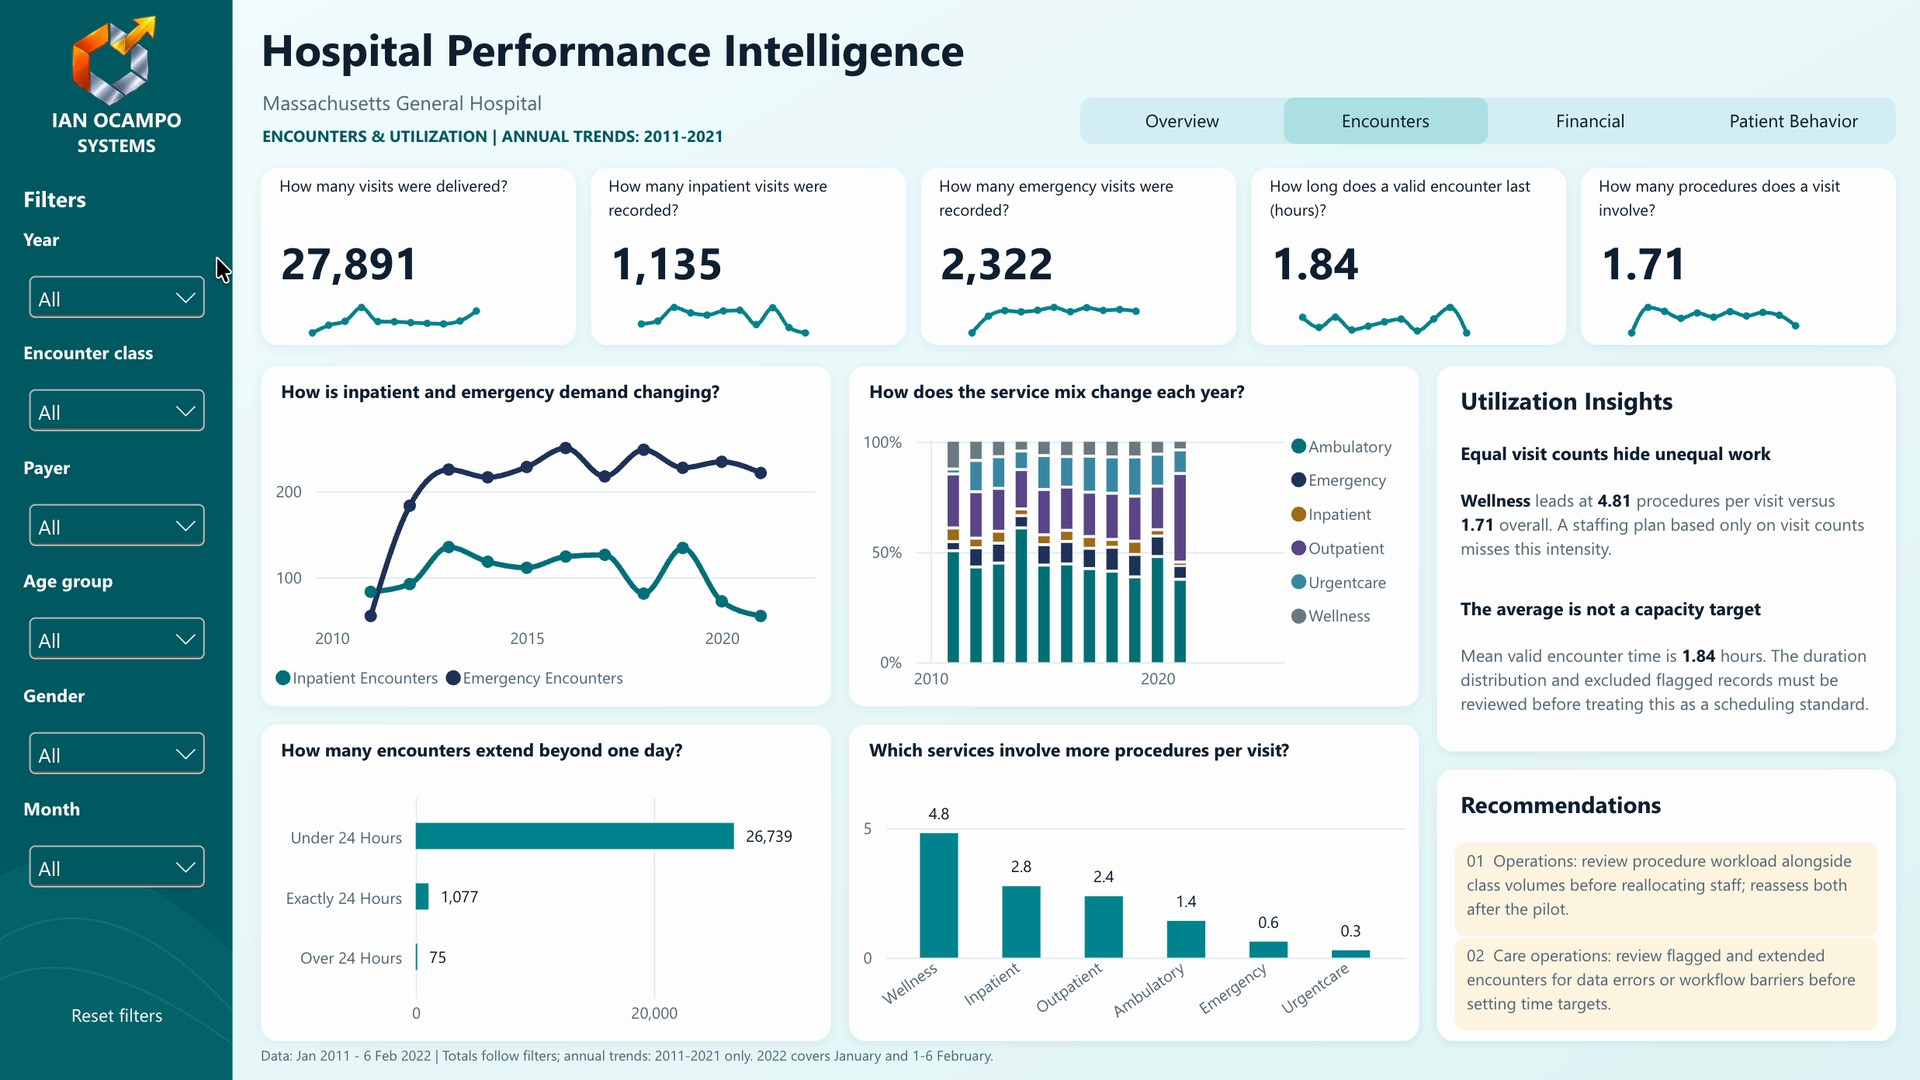

Layout of this report page (visuals, bound fields, positions):
{"tool":"powerbi","page":{"name":"Encounters & Utilization","canvas":[1280,720],"ordinal":1},"visuals":[{"type":"textbox","box":[174,12,1086,53],"z":4},{"type":"textbox","box":[175,59,510,31],"z":5},{"type":"textbox","box":[175,82,510,28],"z":6},{"type":"actionButton","box":[720,65,136,31],"z":7},{"type":"actionButton","box":[856,65,136,31],"z":8},{"type":"actionButton","box":[992,65,136,31],"z":9},{"type":"actionButton","box":[1128,65,136,31],"z":10},{"type":"textbox","box":[16,122,125,33],"z":11},{"type":"textbox","box":[16,151,126,30],"z":12},{"type":"slicer","fields":{"Values":["DimDate.Year"]},"box":[14,179,127,49],"z":13},{"type":"textbox","box":[16,227,126,30],"z":14},{"type":"slicer","fields":{"Values":["encounters.EncounterClass"]},"box":[14,255,127,49],"z":15},{"type":"textbox","box":[16,303,126,30],"z":16},{"type":"slicer","fields":{"Values":["payers.Name"]},"box":[14,331,127,49],"z":17},{"type":"textbox","box":[16,379,126,30],"z":18},{"type":"slicer","fields":{"Values":["encounters.PatientAgeGroup"]},"box":[14,407,127,49],"z":19},{"type":"textbox","box":[16,455,126,30],"z":20},{"type":"slicer","fields":{"Values":["patients.Gender"]},"box":[14,483,127,49],"z":21},{"type":"textbox","box":[16,531,126,30],"z":22},{"type":"slicer","fields":{"Values":["DimDate.Month"]},"box":[14,559,127,49],"z":23},{"type":"actionButton","box":[14,661,127,32],"z":24},{"type":"textbox","box":[174,694,1090,26],"z":25},{"type":"textbox","box":[186,115,186,43],"z":26},{"type":"cardVisual","fields":{"Data":["encounters.Total Encounters"]},"box":[187,157,184,34],"z":27},{"type":"lineChart","fields":{"Category":["DimDate.Year"],"Y":["encounters.Total Encounters"]},"box":[187,194,184,32],"z":28},{"type":"textbox","box":[406,115,186,43],"z":29},{"type":"cardVisual","fields":{"Data":["encounters.Inpatient Encounters"]},"box":[407,157,184,34],"z":30},{"type":"lineChart","fields":{"Category":["DimDate.Year"],"Y":["encounters.Inpatient Encounters"]},"box":[407,194,184,32],"z":31},{"type":"textbox","box":[626,115,186,43],"z":32},{"type":"cardVisual","fields":{"Data":["encounters.Emergency Encounters"]},"box":[627,157,184,34],"z":33},{"type":"lineChart","fields":{"Category":["DimDate.Year"],"Y":["encounters.Emergency Encounters"]},"box":[627,194,184,32],"z":34},{"type":"textbox","box":[846,115,186,43],"z":35},{"type":"cardVisual","fields":{"Data":["encounters.Average Duration Hours"]},"box":[847,157,184,34],"z":36},{"type":"lineChart","fields":{"Category":["DimDate.Year"],"Y":["encounters.Average Duration Hours"]},"box":[847,194,184,32],"z":37},{"type":"textbox","box":[1066,115,186,43],"z":38},{"type":"cardVisual","fields":{"Data":["encounters.Procedures per Encounter"]},"box":[1067,157,184,34],"z":39},{"type":"lineChart","fields":{"Category":["DimDate.Year"],"Y":["encounters.Procedures per Encounter"]},"box":[1067,194,184,32],"z":40},{"type":"textbox","box":[187,252,354,42],"z":41},{"type":"lineChart","fields":{"Category":["DimDate.Year"],"Y":["encounters.Inpatient Encounters","encounters.Emergency Encounters"]},"box":[183,286,362,179],"z":42},{"type":"textbox","box":[579,252,354,42],"z":43},{"type":"hundredPercentStackedColumnChart","fields":{"Category":["DimDate.Year"],"Series":["encounters.EncounterClass"],"Y":["encounters.Total Encounters"]},"box":[575,286,362,179],"z":44},{"type":"textbox","box":[187,491,354,42],"z":45},{"type":"clusteredBarChart","fields":{"Category":["encounters.DurationCategory"],"Y":["encounters.Total Encounters"]},"box":[183,525,362,163],"z":46},{"type":"textbox","box":[579,491,354,42],"z":47},{"type":"clusteredColumnChart","fields":{"Category":["encounters.EncounterClass"],"Y":["encounters.Procedures per Encounter"]},"box":[575,525,362,163],"z":48},{"type":"textbox","box":[974,256,274,35],"z":49},{"type":"textbox","box":[974,294,274,32],"z":50},{"type":"textbox","box":[974,325,274,71],"z":51},{"type":"textbox","box":[974,397,274,32],"z":52},{"type":"textbox","box":[974,428,274,71],"z":53},{"type":"textbox","box":[974,526,274,34],"z":54},{"type":"textbox","box":[978,565,270,57],"z":55},{"type":"textbox","box":[978,628,270,57],"z":56},{"type":"image","box":[41.5,8,66,66],"z":1000},{"type":"textbox","box":[8,70,139,43],"z":1001}]}

Visuals, with their boxes in screenshot pixels (x1, y1, x2, y2), scaled from the page's 1280x720 canvas onto the 1920x1080 screenshot:
textbox: <region>261, 18, 1890, 98</region>
textbox: <region>262, 88, 1028, 135</region>
textbox: <region>262, 123, 1028, 165</region>
actionButton: <region>1080, 98, 1284, 144</region>
actionButton: <region>1284, 98, 1488, 144</region>
actionButton: <region>1488, 98, 1692, 144</region>
actionButton: <region>1692, 98, 1896, 144</region>
textbox: <region>24, 183, 212, 232</region>
textbox: <region>24, 226, 213, 272</region>
slicer - DimDate.Year: <region>21, 268, 212, 342</region>
textbox: <region>24, 340, 213, 386</region>
slicer - encounters.EncounterClass: <region>21, 382, 212, 456</region>
textbox: <region>24, 454, 213, 500</region>
slicer - payers.Name: <region>21, 496, 212, 570</region>
textbox: <region>24, 568, 213, 614</region>
slicer - encounters.PatientAgeGroup: <region>21, 610, 212, 684</region>
textbox: <region>24, 682, 213, 728</region>
slicer - patients.Gender: <region>21, 724, 212, 798</region>
textbox: <region>24, 796, 213, 842</region>
slicer - DimDate.Month: <region>21, 838, 212, 912</region>
actionButton: <region>21, 992, 212, 1040</region>
textbox: <region>261, 1041, 1896, 1079</region>
textbox: <region>279, 172, 558, 237</region>
cardVisual - encounters.Total Encounters: <region>280, 236, 556, 286</region>
lineChart - DimDate.Year x encounters.Total Encounters: <region>280, 291, 556, 339</region>
textbox: <region>609, 172, 888, 237</region>
cardVisual - encounters.Inpatient Encounters: <region>610, 236, 886, 286</region>
lineChart - DimDate.Year x encounters.Inpatient Encounters: <region>610, 291, 886, 339</region>
textbox: <region>939, 172, 1218, 237</region>
cardVisual - encounters.Emergency Encounters: <region>940, 236, 1216, 286</region>
lineChart - DimDate.Year x encounters.Emergency Encounters: <region>940, 291, 1216, 339</region>
textbox: <region>1269, 172, 1548, 237</region>
cardVisual - encounters.Average Duration Hours: <region>1270, 236, 1546, 286</region>
lineChart - DimDate.Year x encounters.Average Duration Hours: <region>1270, 291, 1546, 339</region>
textbox: <region>1599, 172, 1878, 237</region>
cardVisual - encounters.Procedures per Encounter: <region>1600, 236, 1876, 286</region>
lineChart - DimDate.Year x encounters.Procedures per Encounter: <region>1600, 291, 1876, 339</region>
textbox: <region>280, 378, 812, 441</region>
lineChart - DimDate.Year x encounters.Inpatient Encounters: <region>274, 429, 818, 698</region>
textbox: <region>868, 378, 1400, 441</region>
hundredPercentStackedColumnChart - DimDate.Year x encounters.EncounterClass: <region>862, 429, 1406, 698</region>
textbox: <region>280, 736, 812, 800</region>
clusteredBarChart - encounters.DurationCategory x encounters.Total Encounters: <region>274, 788, 818, 1032</region>
textbox: <region>868, 736, 1400, 800</region>
clusteredColumnChart - encounters.EncounterClass x encounters.Procedures per Encounter: <region>862, 788, 1406, 1032</region>
textbox: <region>1461, 384, 1872, 436</region>
textbox: <region>1461, 441, 1872, 489</region>
textbox: <region>1461, 488, 1872, 594</region>
textbox: <region>1461, 596, 1872, 644</region>
textbox: <region>1461, 642, 1872, 748</region>
textbox: <region>1461, 789, 1872, 840</region>
textbox: <region>1467, 848, 1872, 933</region>
textbox: <region>1467, 942, 1872, 1028</region>
image: <region>62, 12, 161, 111</region>
textbox: <region>12, 105, 220, 170</region>
